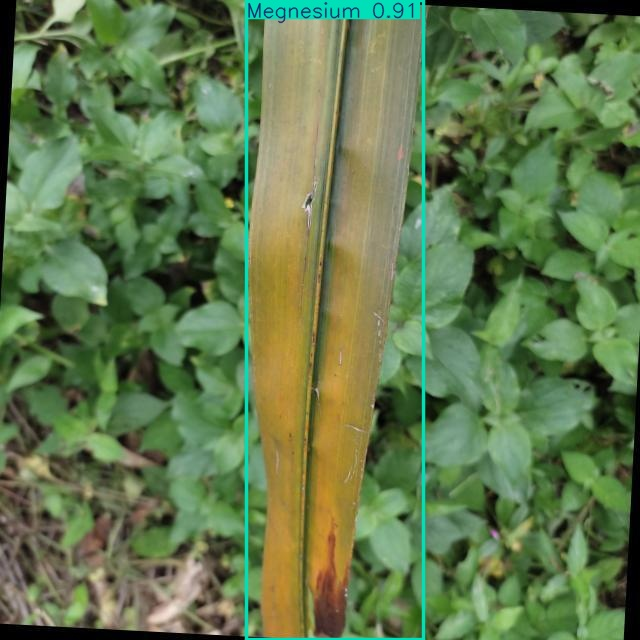Megnesium: (246, 0, 424, 640)
